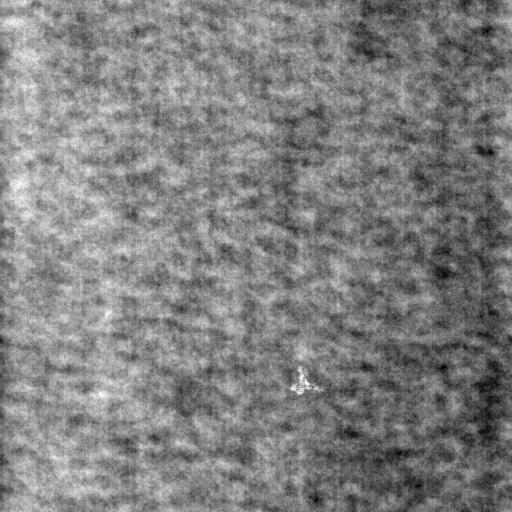DefectTypeA: (286, 364, 328, 396)
